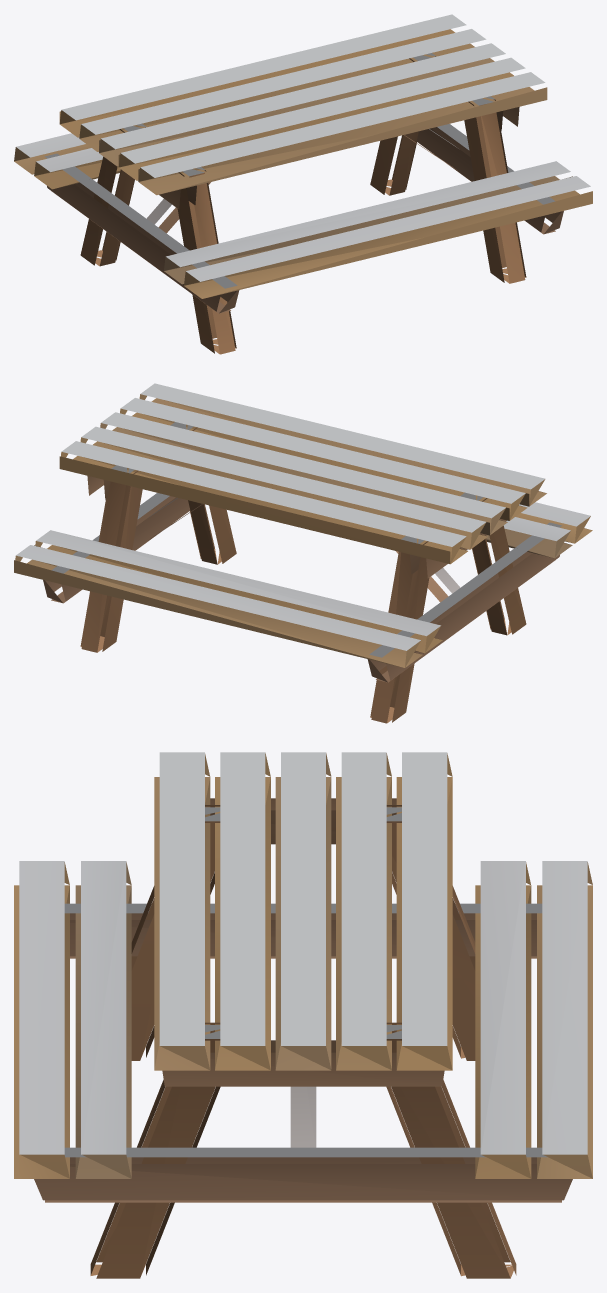
File: picnic.lod.glb
3 views of the same model, one above another, from view 1: azimuth 30°, elevation 25°; view 2: azimuth 150°, elevation 25°; view 3: azimuth 270°, elevation 25° (orthographic). The views are drawn at different scales.
Parts seen in each view (by area): view 1: picnic; view 2: picnic; view 3: picnic.
Boxes of the visible parts, x1=… form: picnic: x1=14, y1=14, x2=592, y2=354; picnic: x1=14, y1=383, x2=592, y2=723; picnic: x1=14, y1=752, x2=592, y2=1278.
Size of the model in its own units: 2.16 by 0.9 by 1.8.
